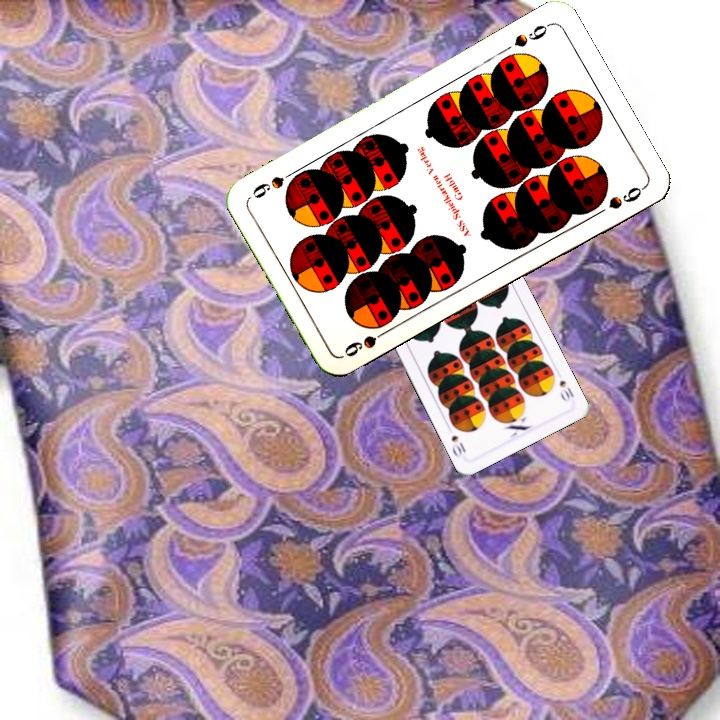S10: (555, 376, 576, 404)
S9: (340, 324, 394, 360), (510, 19, 553, 50)
